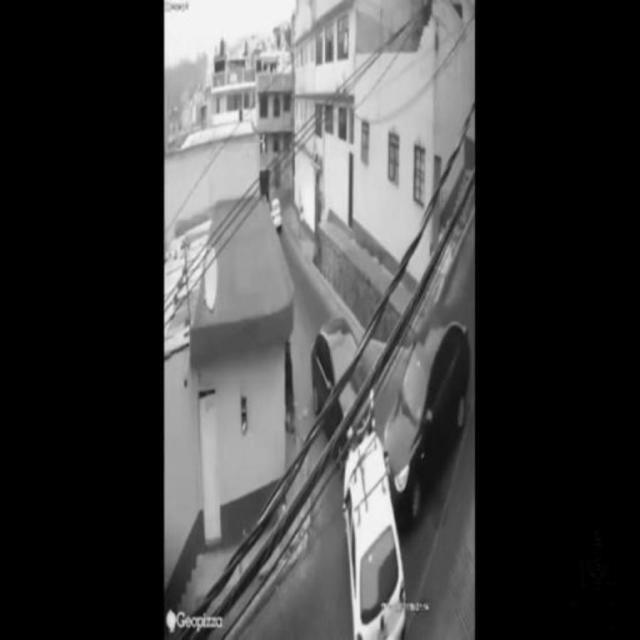accident: (317, 316, 463, 638)
